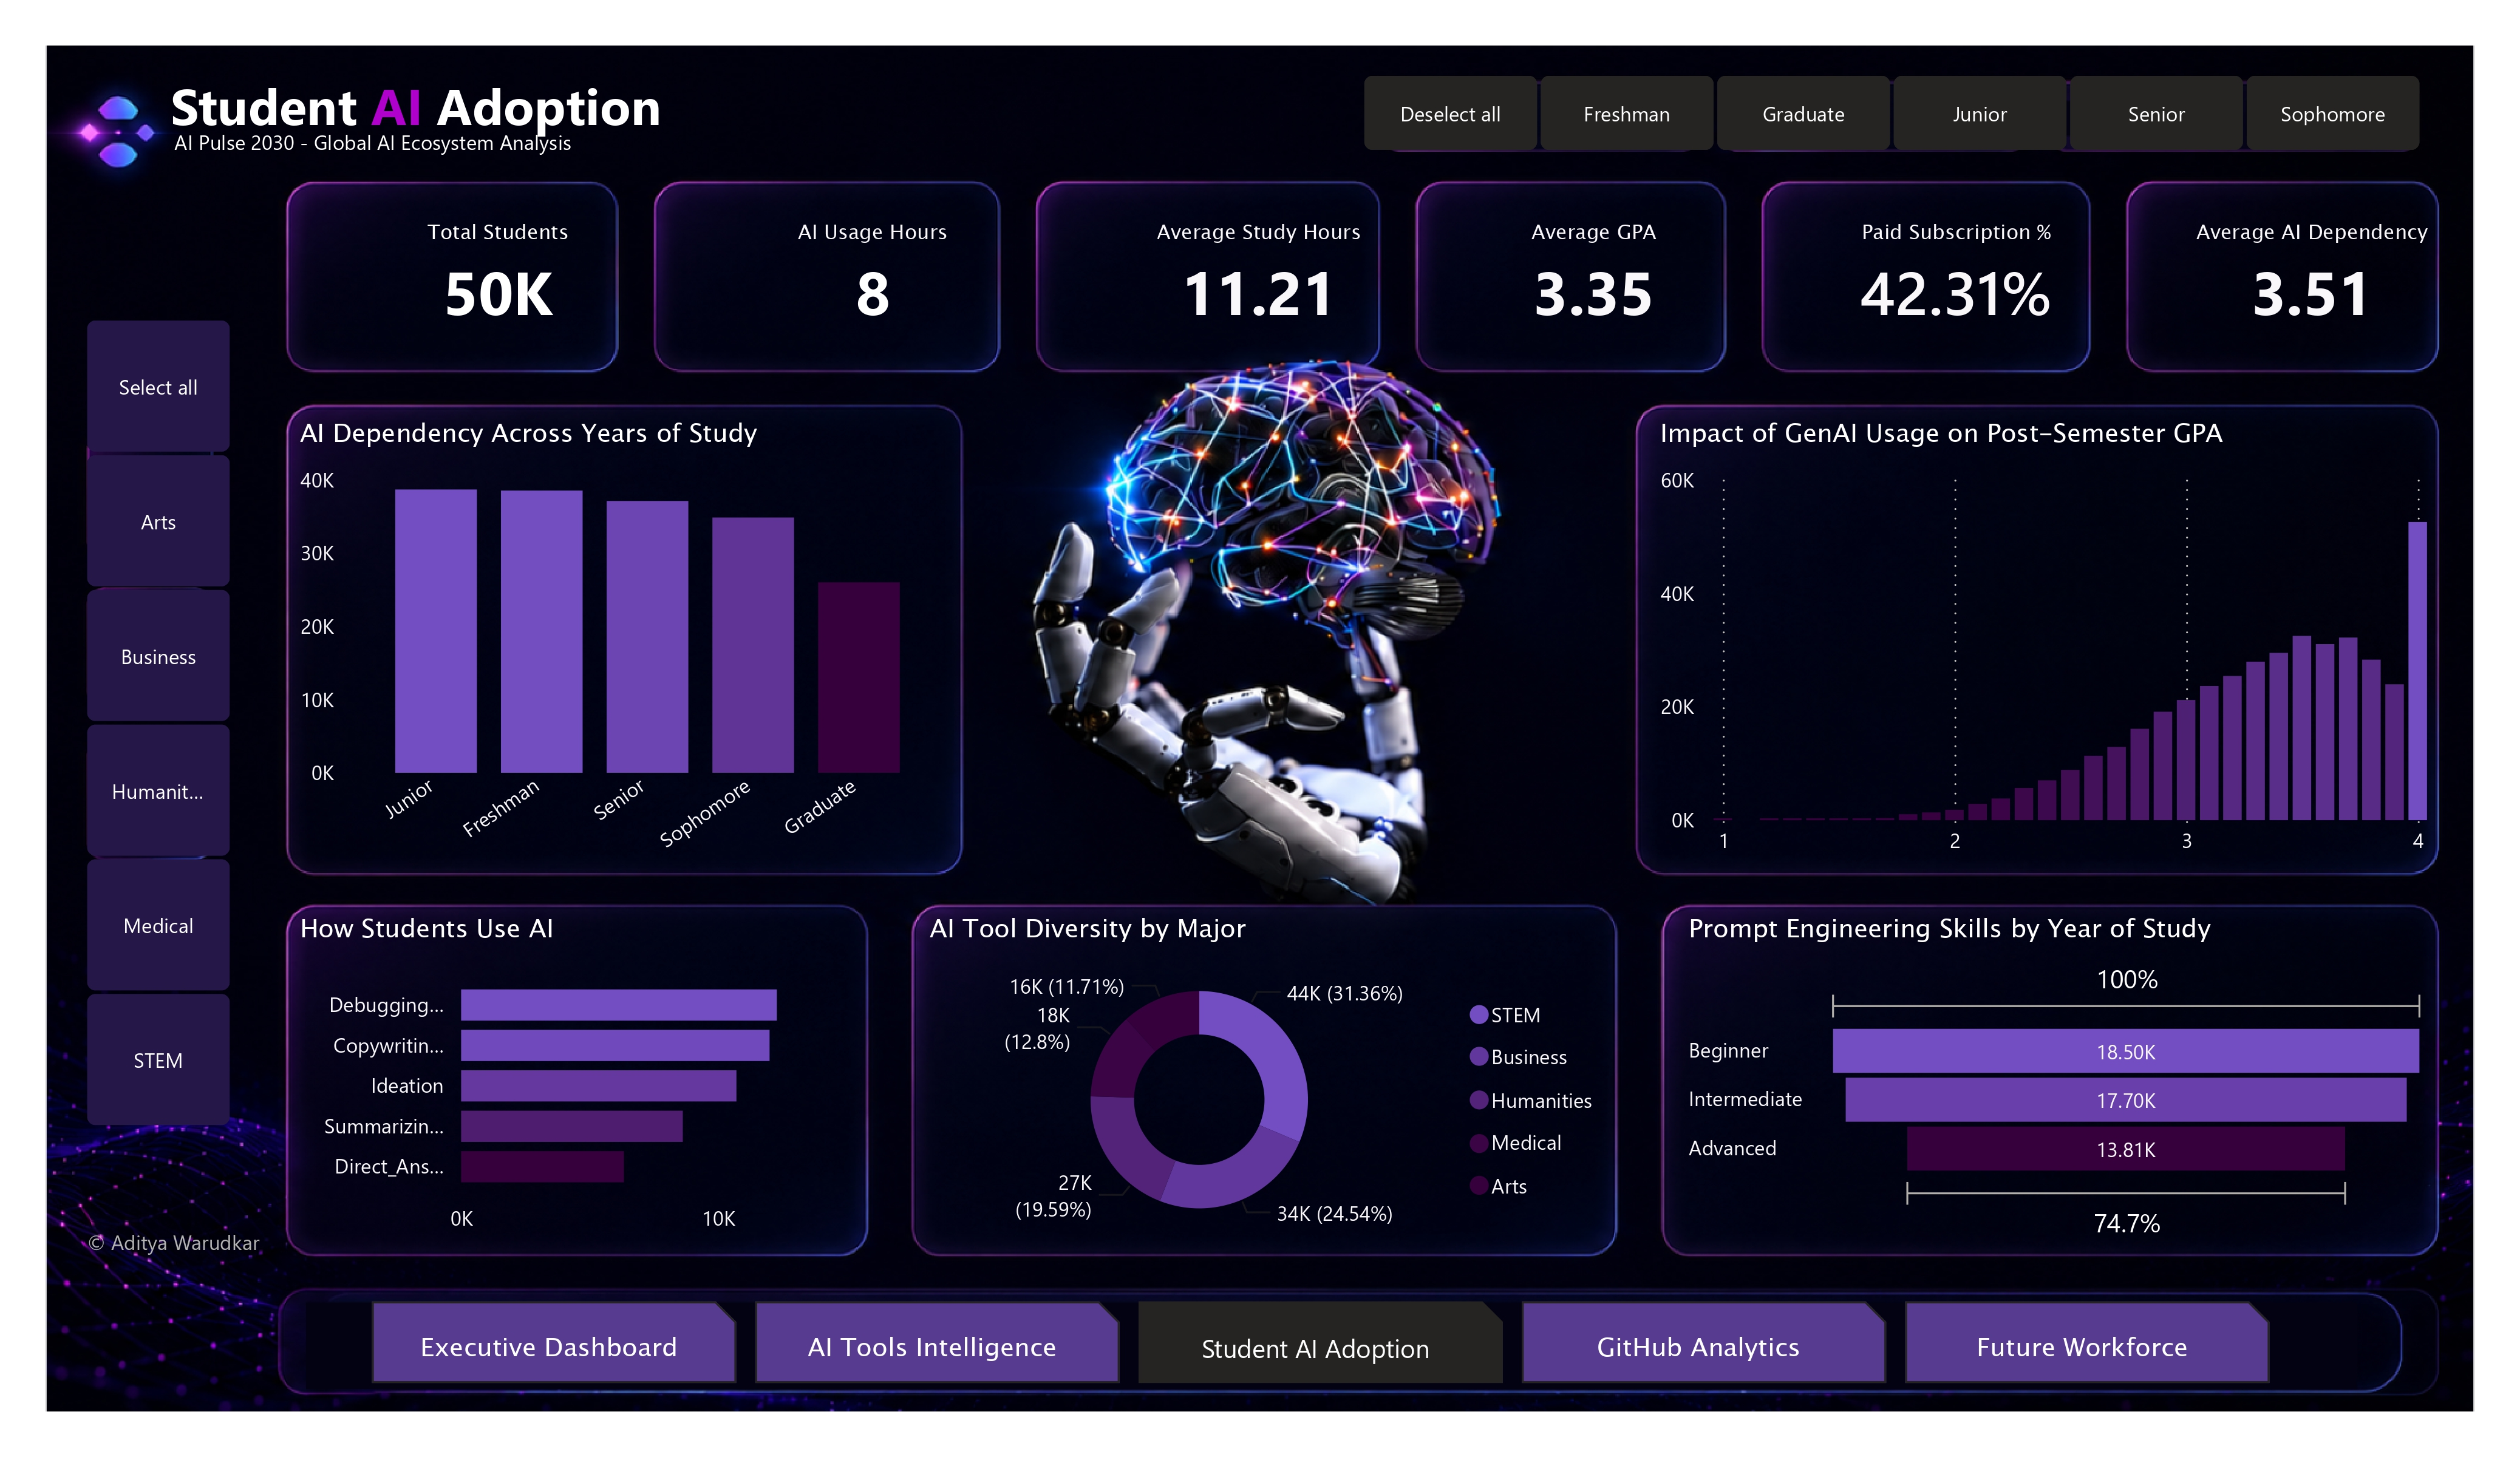

The page's visual inventory and layout, read from the dashboard file:
{"tool":"powerbi","page":{"name":"Student AI Adoption","canvas":[1280,720],"ordinal":2},"visuals":[{"type":"textbox","box":[61.1,7.8,558.9,56.7],"z":0},{"type":"textbox","box":[62.7,36.4,558.2,28.2],"z":1000},{"type":"cardVisual","fields":{"Data":["STUDENT CLEANED DATA.Total Students"]},"box":[171.8,76.3,133.6,89.1],"z":2000},{"type":"cardVisual","fields":{"Data":["STUDENT CLEANED DATA.AI Usage Hours"]},"box":[369,76.3,133.6,89.1],"z":3000},{"type":"cardVisual","fields":{"Data":["STUDENT CLEANED DATA.Average Study Hours"]},"box":[572.6,76.3,133.6,89.1],"z":4000},{"type":"cardVisual","fields":{"Data":["STUDENT CLEANED DATA.Average GPA"]},"box":[760.8,76.7,133.3,89.2],"z":5000},{"type":"cardVisual","fields":{"Data":["STUDENT CLEANED DATA.AI Adoption Rate %"]},"box":[948.3,77.5,133.3,89.2],"z":6000},{"type":"cardVisual","fields":{"Data":["STUDENT CLEANED DATA.Average AI Dependency"]},"box":[1136.7,75.8,134.2,89.2],"z":7000},{"type":"columnChart","title":"AI Dependency Across Years of Study","fields":{"Category":["STUDENT CLEANED DATA.Year_of_Study"],"Y":["Sum(STUDENT CLEANED DATA.Perceived_AI_Dependency)"]},"box":[128.8,194.1,349.9,241.8],"z":8000},{"type":"barChart","title":"How Students Use AI","fields":{"Category":["STUDENT CLEANED DATA.Primary_Use_Case"],"Y":["CountNonNull(STUDENT CLEANED DATA.Major_Category)"]},"box":[128.8,454.9,307,179.7],"z":9000},{"type":"donutChart","title":"AI Tool Diversity by Major","fields":{"Y":["Sum(STUDENT CLEANED DATA.Tool_Diversity)"],"Category":["STUDENT CLEANED DATA.Major_Category"]},"box":[461.3,454.9,369,179.7],"z":10000},{"type":"funnel","title":"Prompt Engineering Skills by Year of Study","fields":{"Category":["STUDENT CLEANED DATA.Prompt_Engineering_Skill"],"Y":["CountNonNull(STUDENT CLEANED DATA.Year_of_Study)"]},"box":[860.5,454.9,400.8,179.7],"z":11000},{"type":"columnChart","title":"Impact of GenAI Usage on Post-Semester GPA","fields":{"Y":["Sum(STUDENT CLEANED DATA.Weekly_GenAI_Hours)"],"Category":["STUDENT CLEANED DATA.Post_Semester_GPA"]},"box":[846,194,414,242],"z":12000},{"type":"advancedSlicerVisual","fields":{"Values":["STUDENT CLEANED DATA.Year_of_Study"]},"box":[690,11,570,49],"z":13000},{"type":"advancedSlicerVisual","fields":{"Values":["STUDENT CLEANED DATA.Major_Category"]},"box":[17.5,140,84.3,439],"z":14000},{"type":"pageNavigator","box":[171.8,661.7,1000.5,42.9],"z":15000},{"type":"textbox","box":[17.5,615.6,149.5,38.2],"z":16000},{"type":"image","box":[134.2,91.7,75,59.2],"z":17000},{"type":"image","box":[325.8,95,75,59.2],"z":18000},{"type":"image","box":[520.8,92.5,75,59.2],"z":19000},{"type":"image","box":[725.8,93.3,75,59.2],"z":20000},{"type":"image","box":[905,101.7,61.7,45],"z":21000},{"type":"image","box":[1094.2,94.2,75,59.2],"z":22000}]}

Visuals, with their boxes on the page's 1280x720 design canvas (x1, y1, x2, y2). These are canvas units, not pixel positions in the 2520x1457 screenshot, which may show the page scaled, cropped or inside an application window:
textbox: [x1=61, y1=8, x2=620, y2=64]
textbox: [x1=63, y1=36, x2=621, y2=65]
cardVisual - STUDENT CLEANED DATA.Total Students: [x1=172, y1=76, x2=305, y2=165]
cardVisual - STUDENT CLEANED DATA.AI Usage Hours: [x1=369, y1=76, x2=503, y2=165]
cardVisual - STUDENT CLEANED DATA.Average Study Hours: [x1=573, y1=76, x2=706, y2=165]
cardVisual - STUDENT CLEANED DATA.Average GPA: [x1=761, y1=77, x2=894, y2=166]
cardVisual - STUDENT CLEANED DATA.AI Adoption Rate %: [x1=948, y1=78, x2=1082, y2=167]
cardVisual - STUDENT CLEANED DATA.Average AI Dependency: [x1=1137, y1=76, x2=1271, y2=165]
"AI Dependency Across Years of Study" columnChart: [x1=129, y1=194, x2=479, y2=436]
"How Students Use AI" barChart: [x1=129, y1=455, x2=436, y2=635]
"AI Tool Diversity by Major" donutChart: [x1=461, y1=455, x2=830, y2=635]
"Prompt Engineering Skills by Year of Study" funnel: [x1=860, y1=455, x2=1261, y2=635]
"Impact of GenAI Usage on Post-Semester GPA" columnChart: [x1=846, y1=194, x2=1260, y2=436]
advancedSlicerVisual - STUDENT CLEANED DATA.Year_of_Study: [x1=690, y1=11, x2=1260, y2=60]
advancedSlicerVisual - STUDENT CLEANED DATA.Major_Category: [x1=18, y1=140, x2=102, y2=579]
pageNavigator: [x1=172, y1=662, x2=1172, y2=705]
textbox: [x1=18, y1=616, x2=167, y2=654]
image: [x1=134, y1=92, x2=209, y2=151]
image: [x1=326, y1=95, x2=401, y2=154]
image: [x1=521, y1=92, x2=596, y2=152]
image: [x1=726, y1=93, x2=801, y2=152]
image: [x1=905, y1=102, x2=967, y2=147]
image: [x1=1094, y1=94, x2=1169, y2=153]
